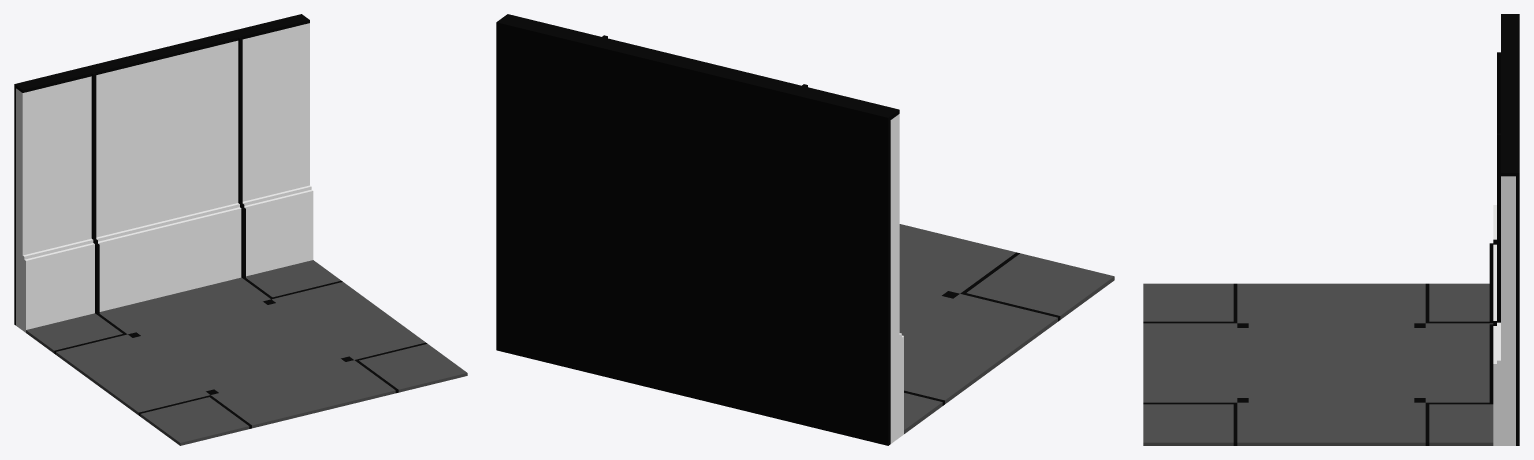
File: Wall.obj
3 views of the same model, side by side, from view 1: azimuth 30°, elevation 25°; view 2: azimuth 150°, elevation 25°; view 3: azimuth 270°, elevation 25° (orthographic). The views are drawn at different scales.
Bounding box in the file's own units: 10 × 8 × 10.
